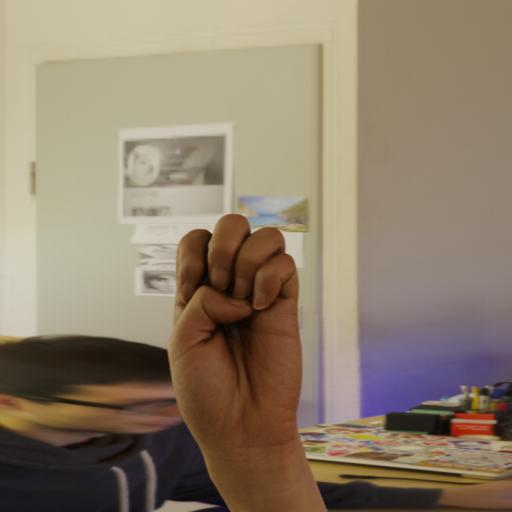E: (160, 205, 317, 466)
